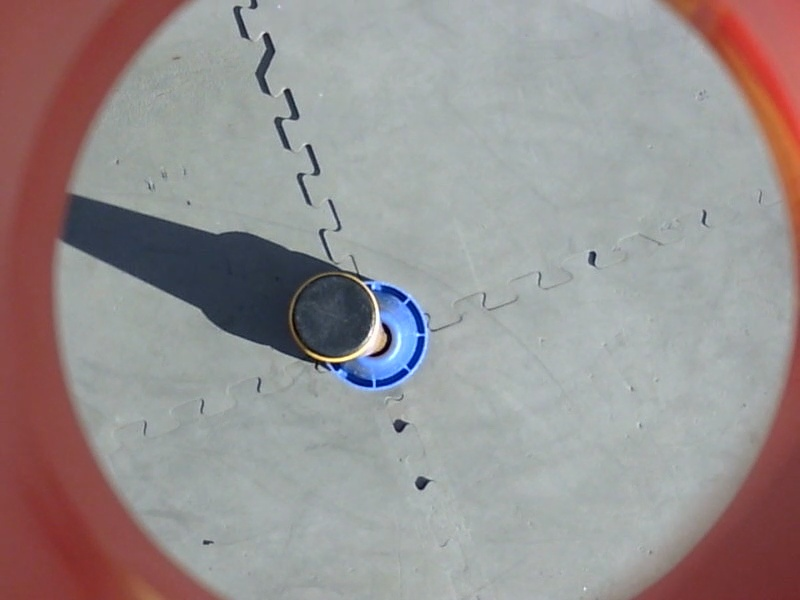tip: (281, 266, 384, 368)
